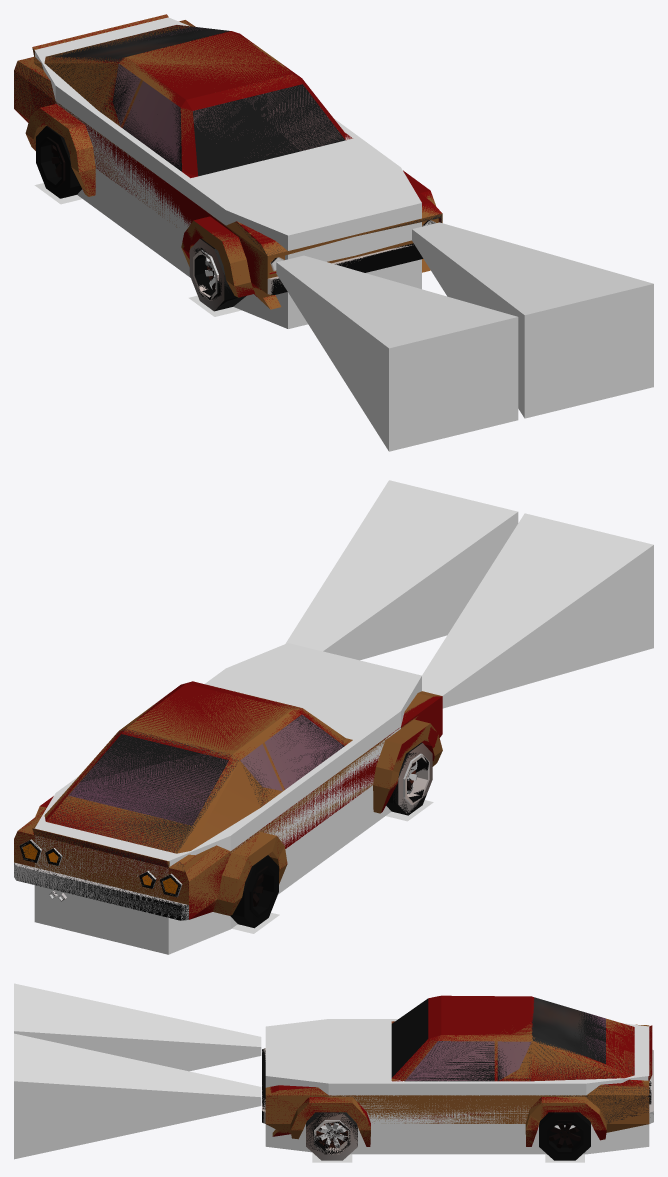
The model's file is Gojira.fbx.
The picture shows the model from 3 angles, top to bottom: view 1: azimuth 30°, elevation 25°; view 2: azimuth 150°, elevation 25°; view 3: azimuth 270°, elevation 25°; orthographic projection. The views are drawn at different scales.
Parts seen in each view (by area): view 1: gojira_gr, gojira_lckd, gojira_cldr, gojira, gojira_dead, gojira_frontwheels; view 2: gojira_gr, gojira, gojira_cldr, gojira_lckd, gojira_dead, gojira_frontwheels; view 3: gojira_gr, gojira_cldr, gojira, gojira_lckd, gojira_dead, gojira_frontwheels, TireSmokeMesh.
Boxes of the visible parts, x1,y1,x2,y2 form: gojira_gr: (276,222,653,451); gojira_lckd: (14,14,441,307); gojira_cldr: (34,17,421,328); gojira: (14,14,442,309); gojira_dead: (14,21,442,254); gojira_frontwheels: (189,239,246,311); gojira_gr: (285,480,653,708); gojira: (14,682,442,920); gojira_cldr: (34,643,421,954); gojira_lckd: (14,681,442,928); gojira_dead: (22,707,343,894); gojira_frontwheels: (393,743,432,813); gojira_gr: (14,983,261,1159); gojira_cldr: (265,1019,649,1154); gojira: (262,1012,653,1146); gojira_lckd: (262,995,652,1160); gojira_dead: (398,997,649,1123); gojira_frontwheels: (306,1112,357,1160); TireSmokeMesh: (312,1152,584,1162).
Size of the model in its own units: 5.14 by 2.62 by 14.23.
